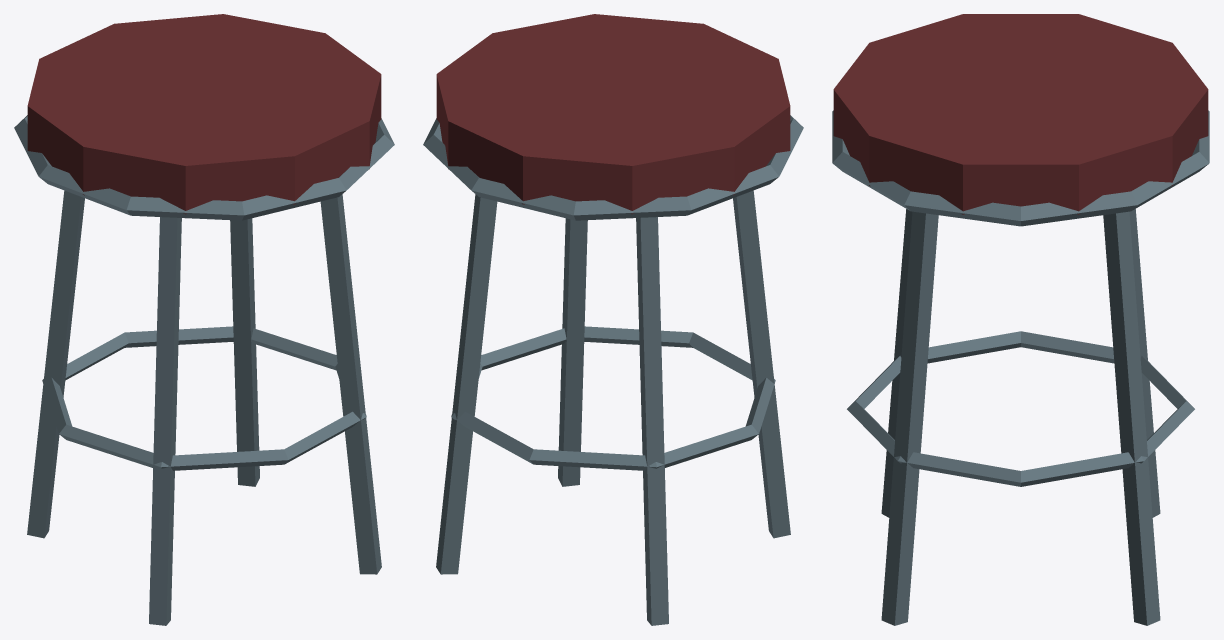
Rendered from taburet.glb.
The picture shows the model from 3 angles, left to right: view 1: azimuth 30°, elevation 25°; view 2: azimuth 150°, elevation 25°; view 3: azimuth 270°, elevation 25°; orthographic projection. The views are drawn at different scales.
Parts seen in each view (by area): view 1: Taburet; view 2: Taburet; view 3: Taburet.
Boxes of the visible parts, x1,y1,x2,y2 form: Taburet: [14, 14, 394, 625]; Taburet: [423, 14, 803, 625]; Taburet: [832, 14, 1209, 625].
Size of the model in its own units: 0.36 by 0.4797 by 0.3424.
